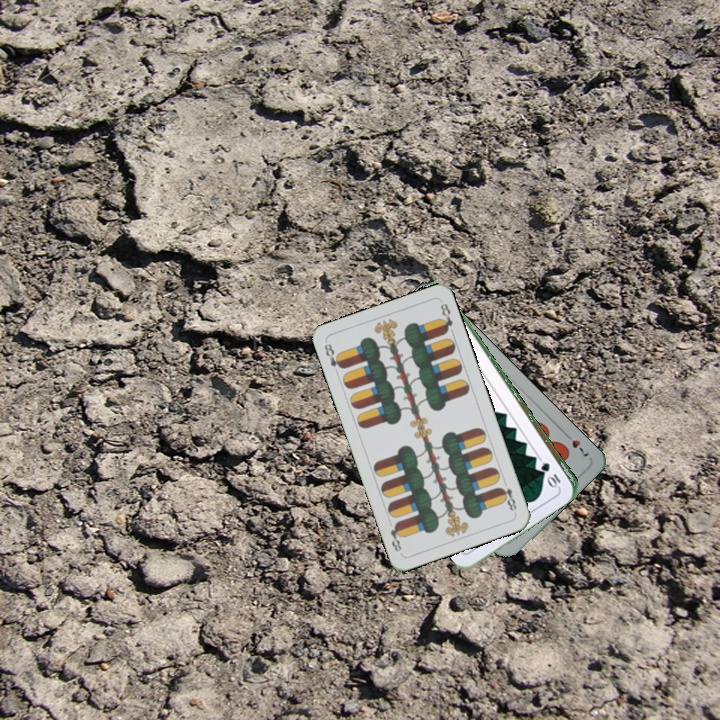E8: (495, 476, 519, 515), (320, 339, 346, 371)
G10: (538, 458, 564, 490)
H7: (560, 428, 592, 461)
